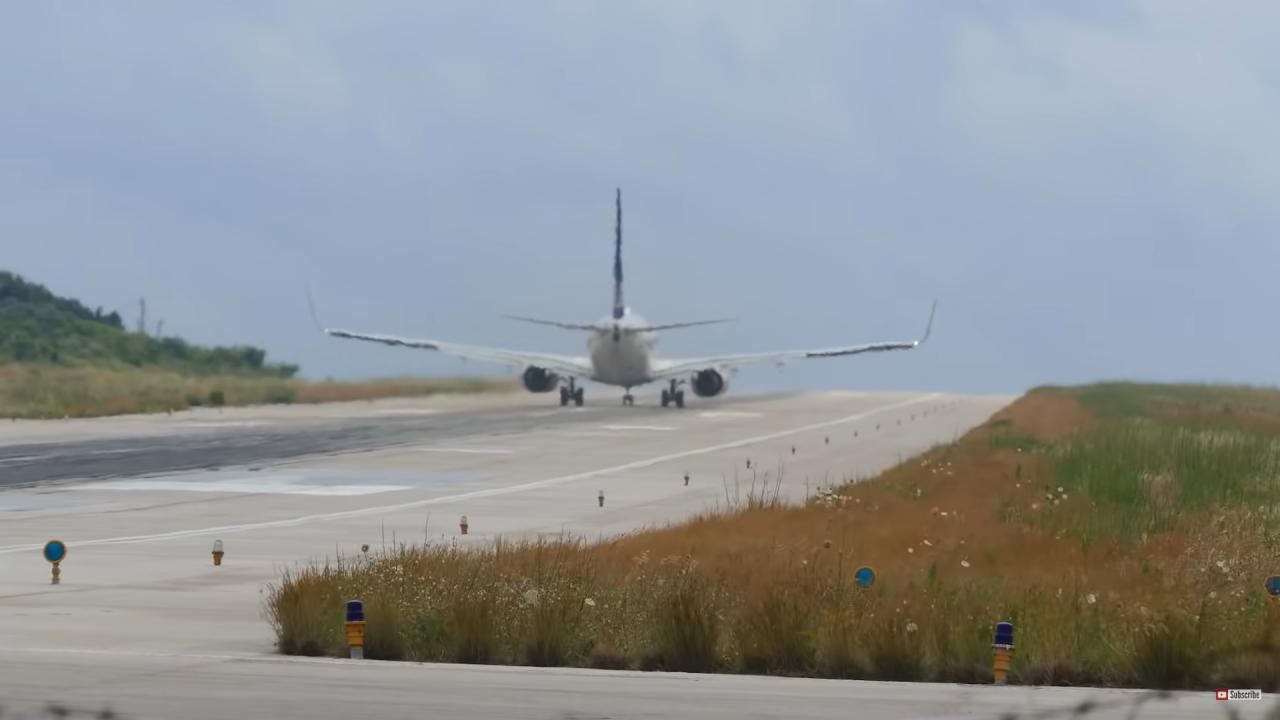Airplane: (292, 176, 954, 419)
